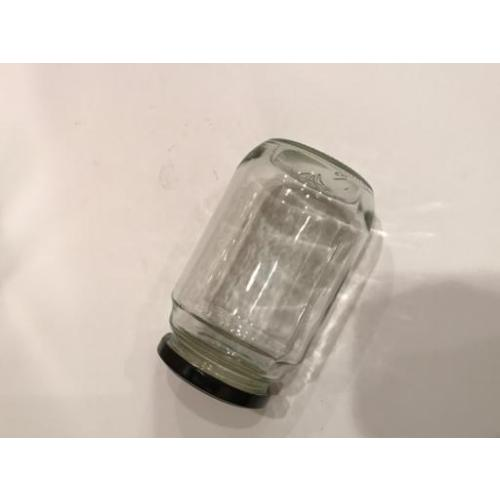glass: (161, 140, 376, 397)
